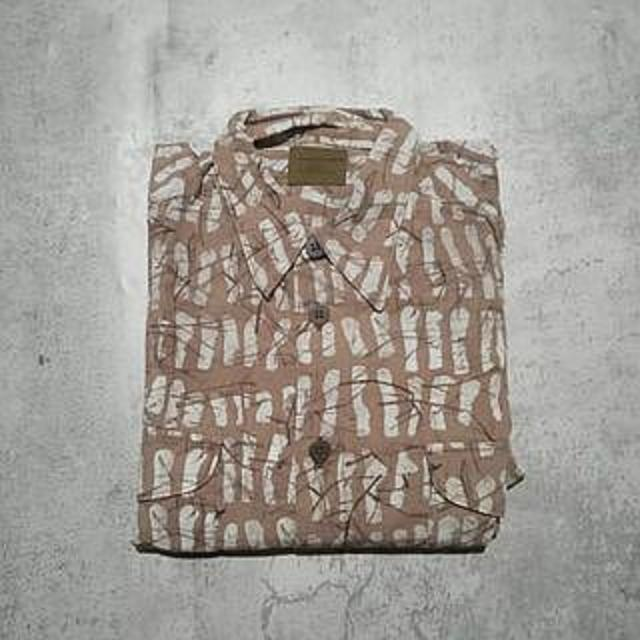SHIRT: (119, 94, 538, 569)
